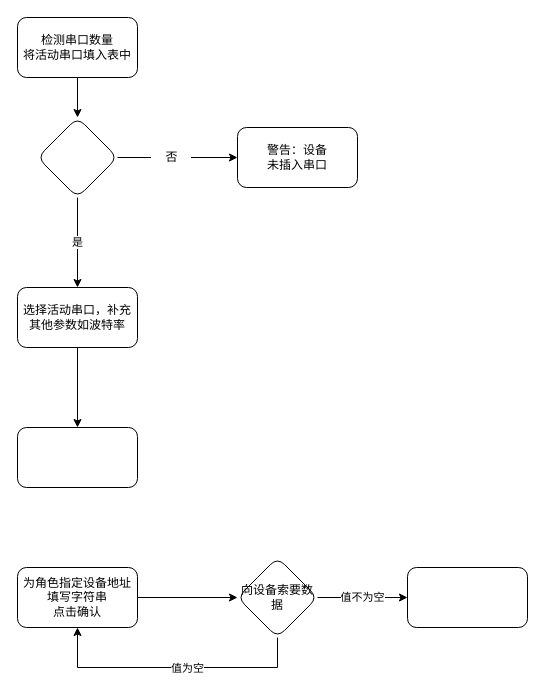
The diagram is 545 pixels wide and 693 high, and some of its shapes have lost their labels. The shapes that lost their labels are listed below. From the top down, each one's box as (x1, y1, x2, y2) in pixels, then its label:
(36, 116, 118, 198): 表的数量大于0
(16, 426, 138, 488): 打开线程
(406, 566, 528, 628): 连接成功 展示运动效果
